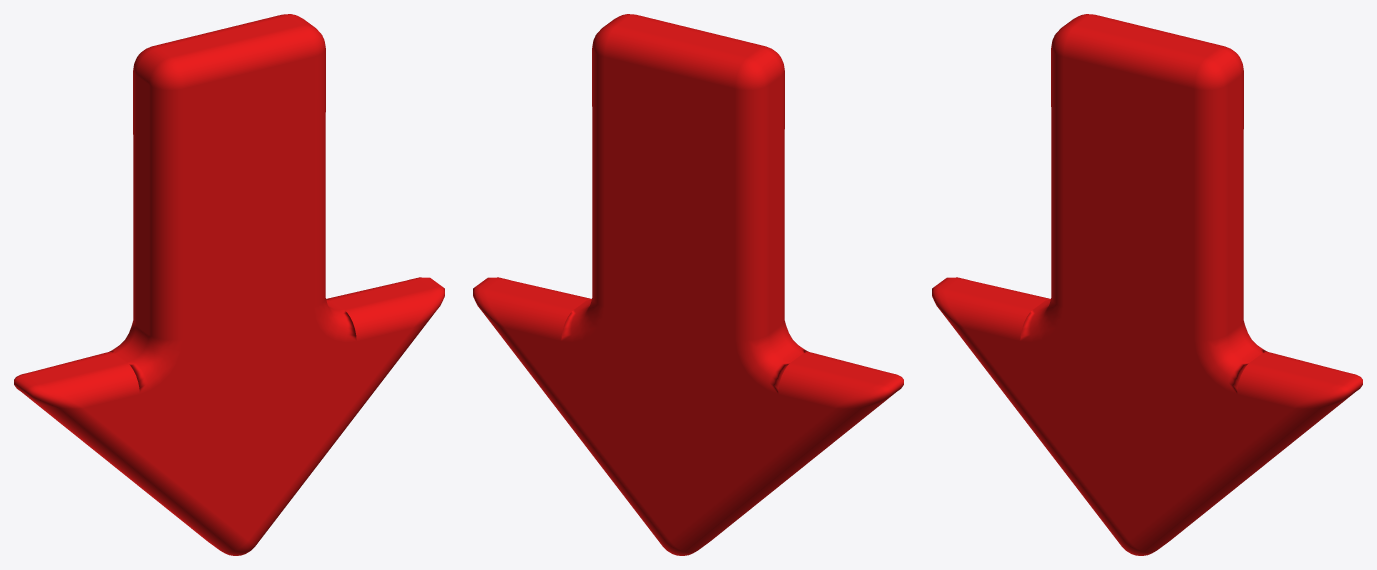
The model's file is arrow.glb.
The picture shows the model from 3 angles, left to right: view 1: azimuth 30°, elevation 25°; view 2: azimuth 150°, elevation 25°; view 3: azimuth 330°, elevation 25°; orthographic projection.
Visible parts, largest first — view 1: Vert.001; view 2: Vert.001; view 3: Vert.001.
Part boxes in pixels (box(x1,y1,x2,y2)): Vert.001: box(14, 14, 444, 555); Vert.001: box(473, 14, 903, 555); Vert.001: box(932, 14, 1362, 555).
Bounding box in the file's own units: 1.93 × 2.26 × 0.3.
